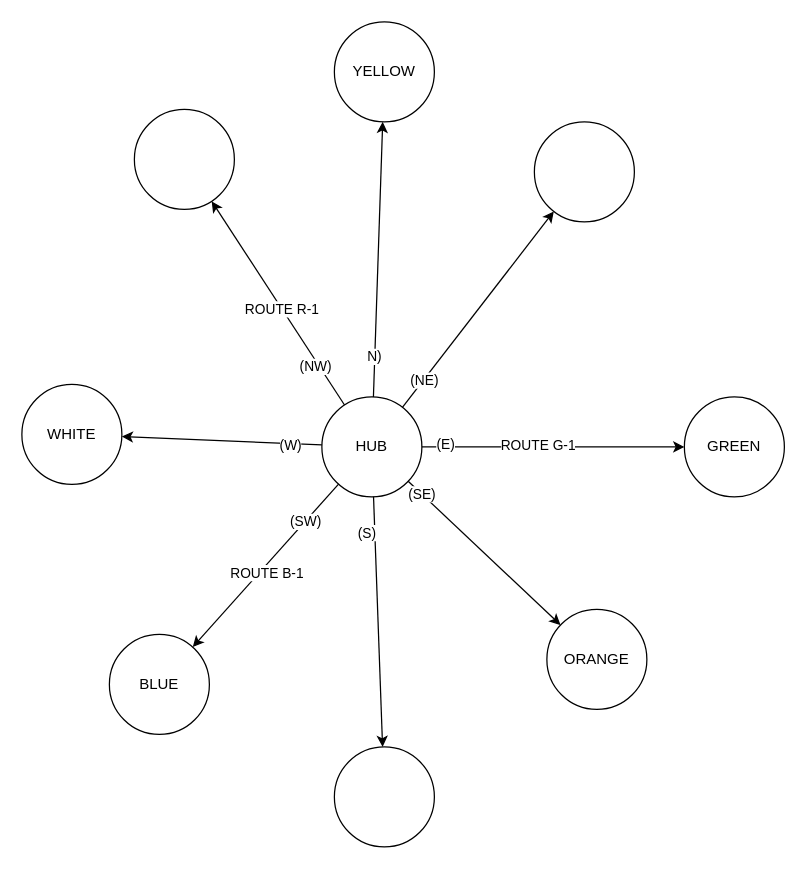
Image size: 806x869. Some labels were removed from this diagram. Each missing label, with the centre of its shape:
"BLACK" belongs at point (583, 171).
"PURPLE" belongs at point (383, 796).
"RED" belongs at point (183, 158).
